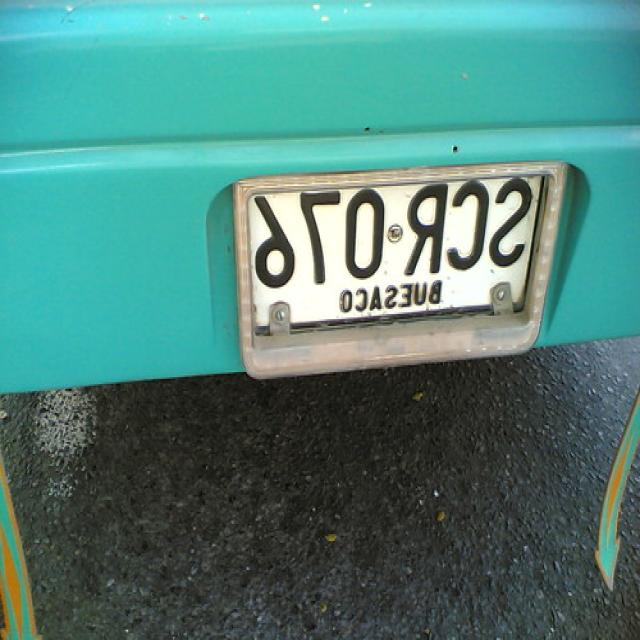placas: (243, 171, 536, 290)
